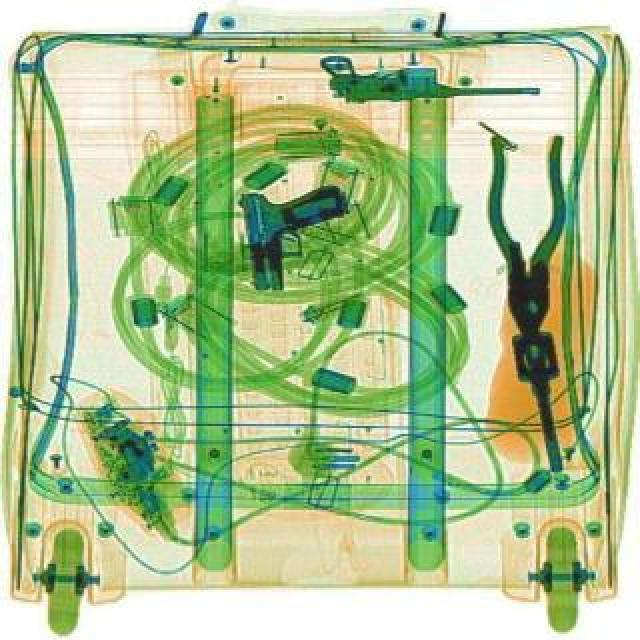gun: (236, 184, 356, 296), (316, 48, 534, 108)
wrench: (484, 138, 566, 338)
